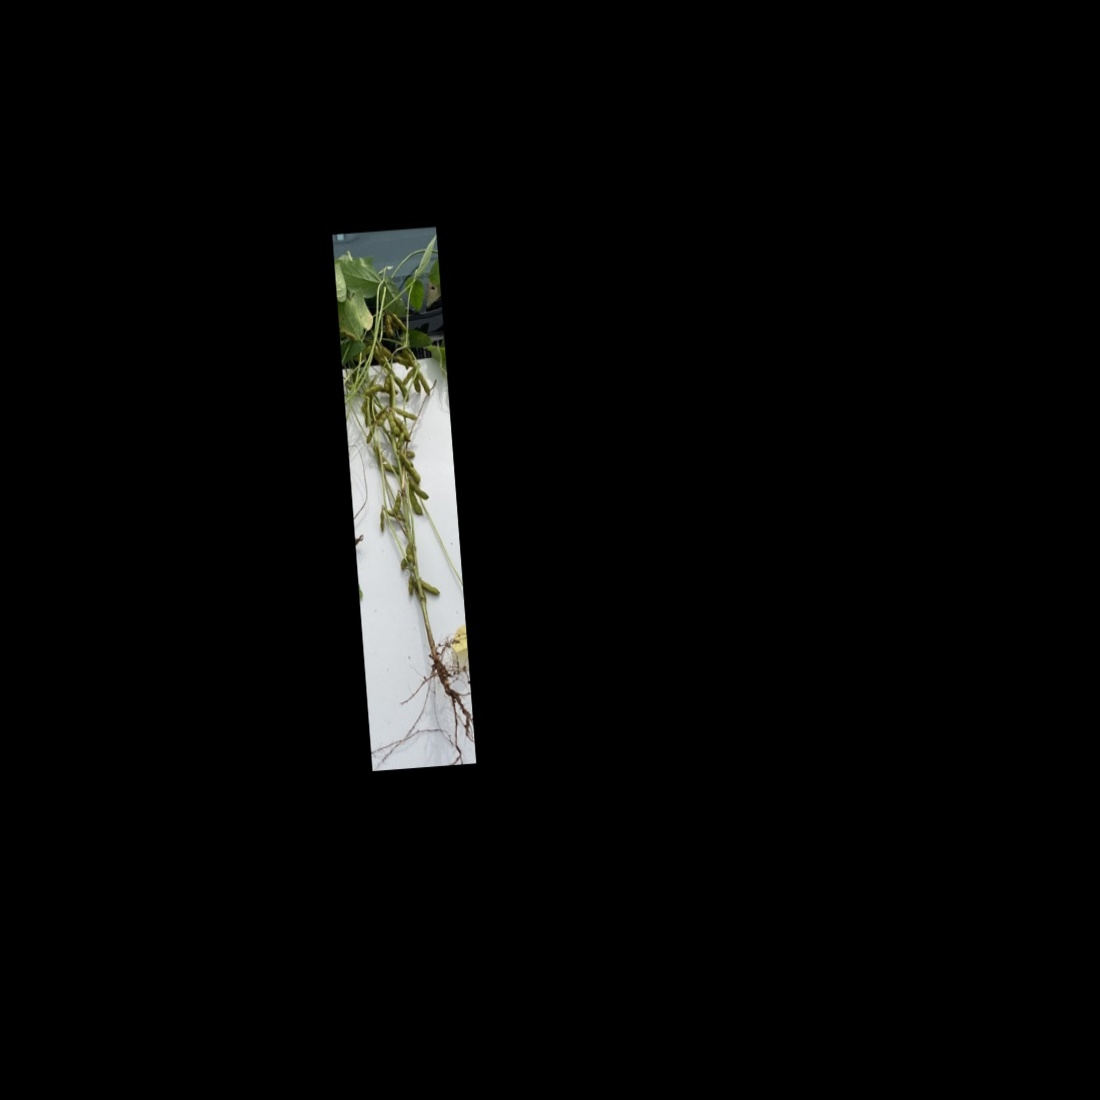pod: (392, 373, 412, 404), (384, 410, 403, 440), (419, 576, 443, 599), (388, 490, 403, 522), (409, 480, 432, 501), (375, 506, 389, 536), (360, 382, 384, 398)
soy: (343, 261, 468, 733)
